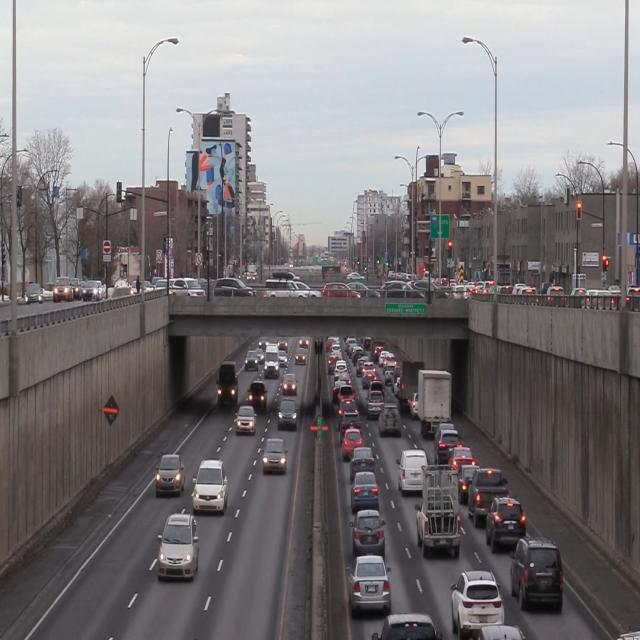Car: (416, 463, 463, 558), (510, 538, 565, 611), (449, 566, 505, 631), (158, 512, 201, 578), (349, 558, 393, 614), (486, 496, 526, 553), (193, 455, 229, 516), (347, 510, 391, 558), (470, 466, 505, 522), (397, 444, 429, 496), (156, 451, 187, 495), (351, 472, 381, 512), (261, 439, 289, 475), (233, 404, 258, 438), (276, 396, 298, 434), (350, 448, 376, 477)
